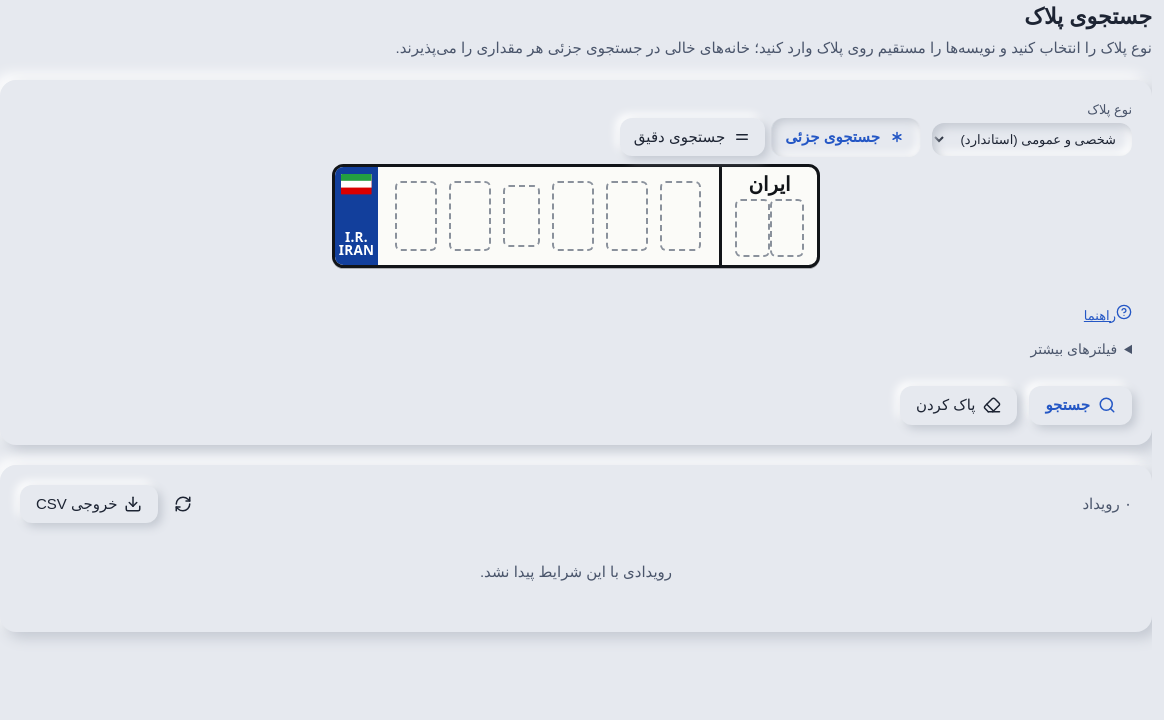
Test case: plate editor › offers only plate letters in the letter list and sets the chosen one
The width and height of the screenshot is (1164, 720).
Click the dropdown named "حرف". click: (522, 216)
box: [503,185,540,247]
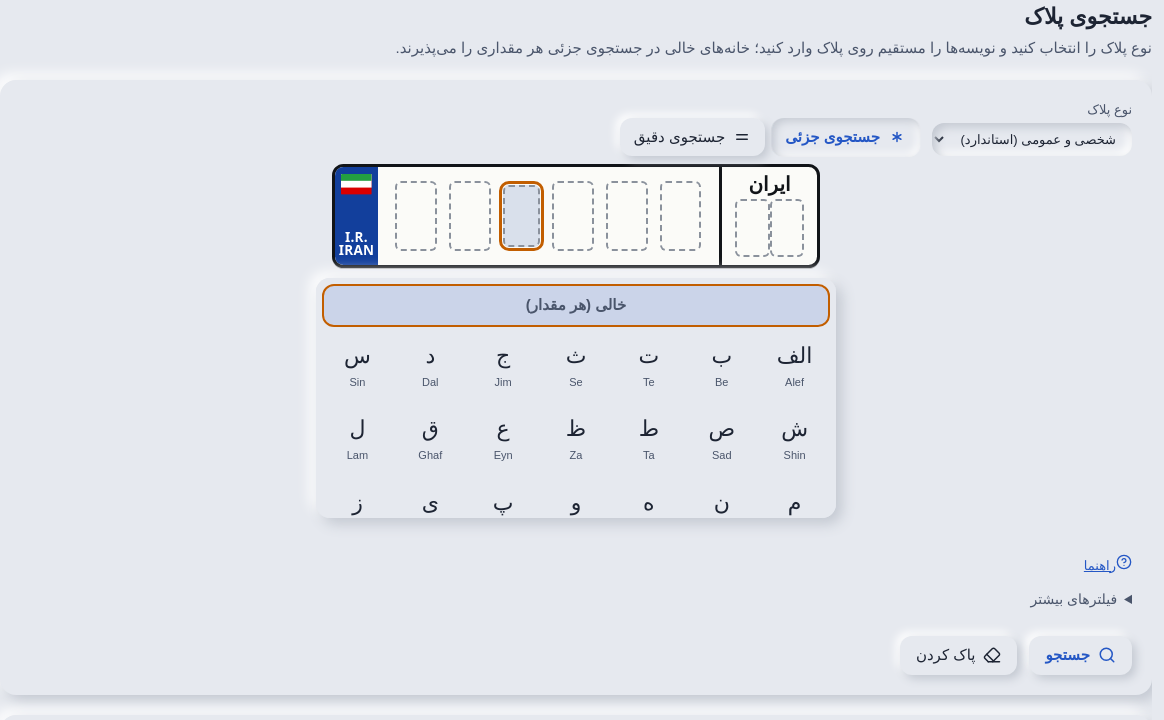
Click the option "ص Sad". click: (722, 438)
box: [708,416,735,461]
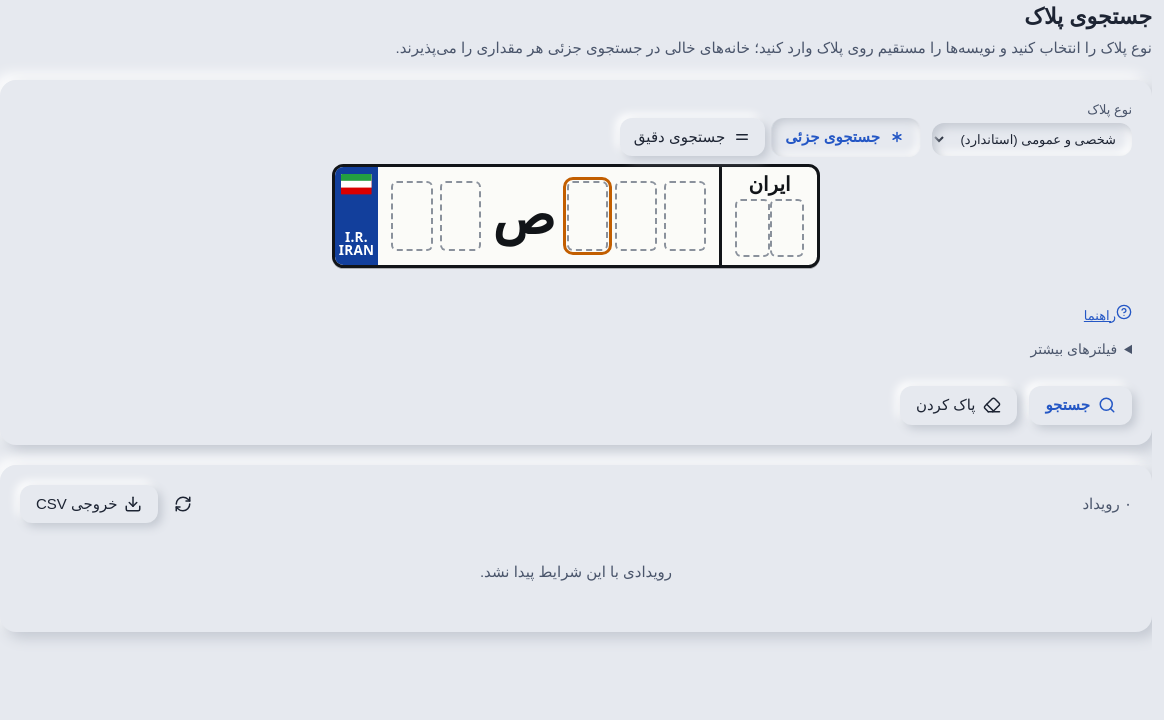
expect the list is gone: met
expect the dropdown named "حرف" reads "ص": met, box [488,185,560,247]
